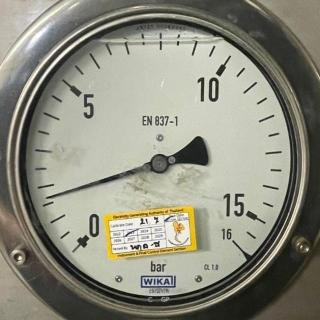gauge: (10, 5, 308, 314), (67, 222, 101, 256), (219, 227, 249, 255), (149, 153, 171, 175), (41, 192, 55, 202)
